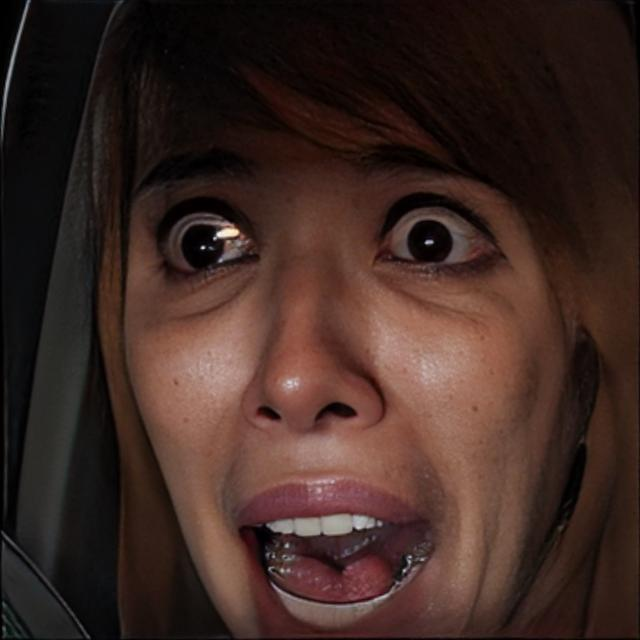fear: (120, 0, 600, 640)
